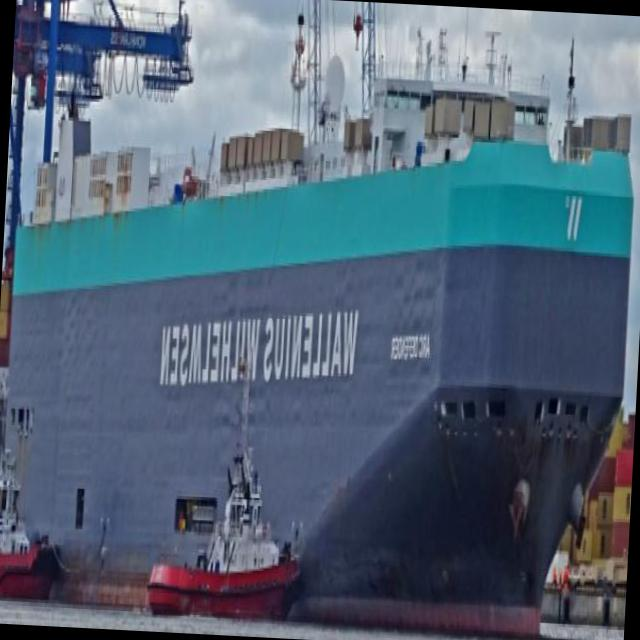Cargo: (10, 60, 633, 606)
Tug: (148, 448, 299, 615), (0, 450, 65, 598)
